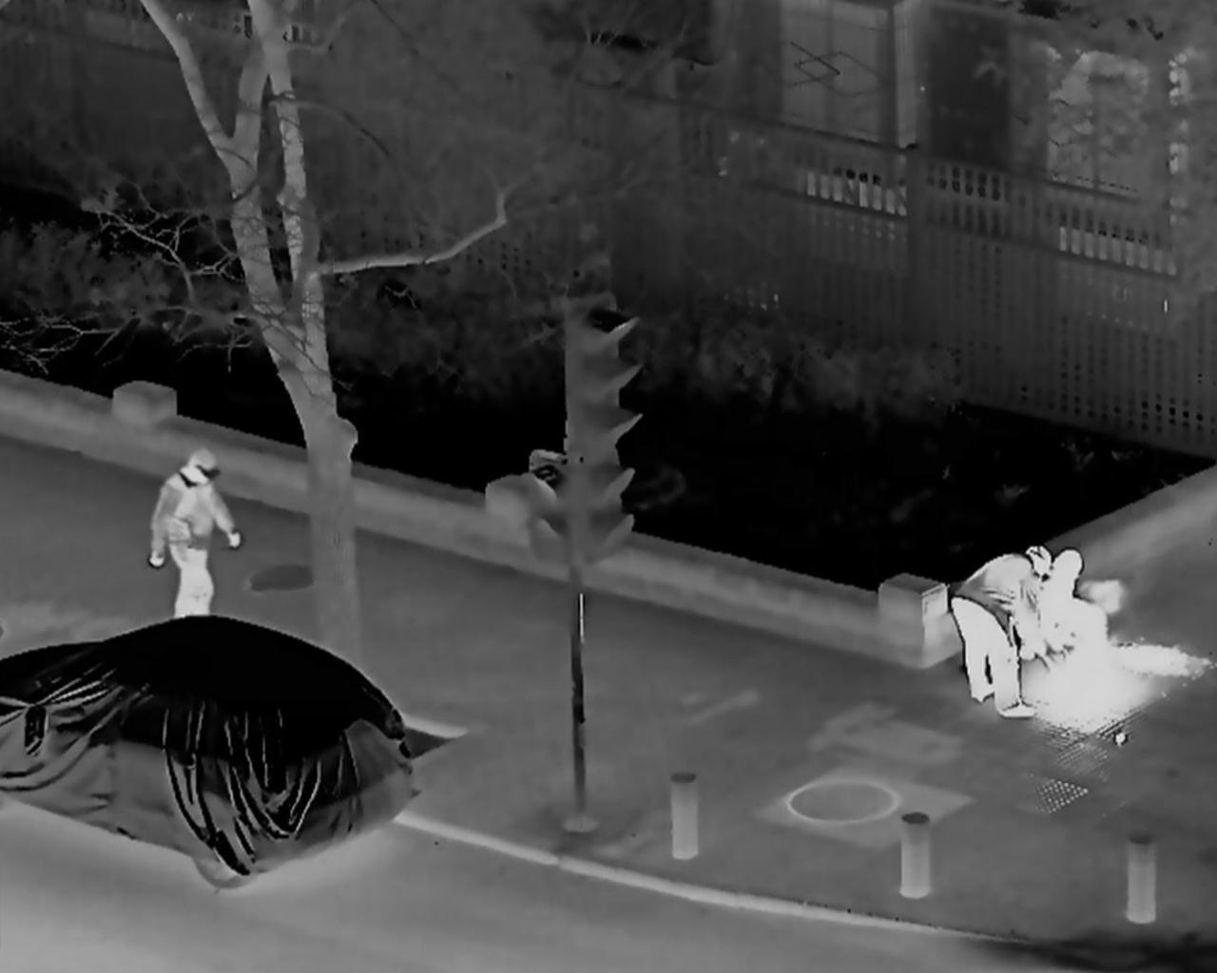person: (152, 450, 241, 641), (952, 548, 1048, 722), (1032, 550, 1108, 659)
